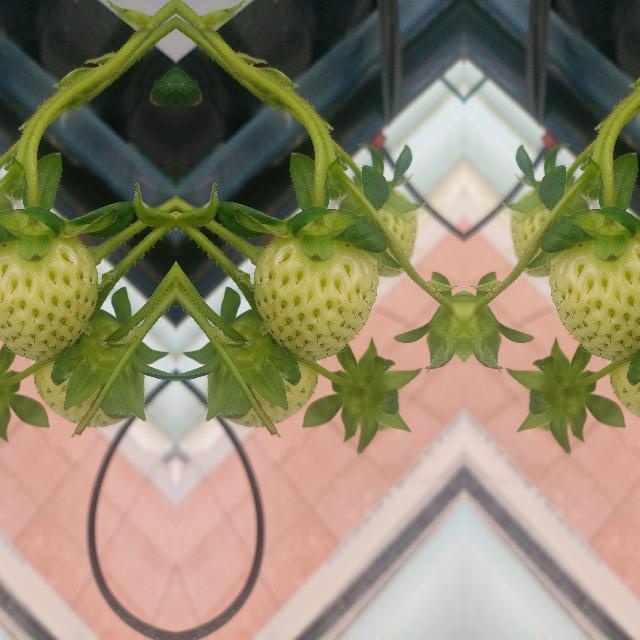Health_25: (252, 236, 378, 360), (31, 315, 150, 427), (200, 315, 318, 427), (0, 236, 98, 360), (548, 236, 640, 360), (337, 177, 415, 275), (511, 177, 589, 275), (607, 315, 640, 427)
